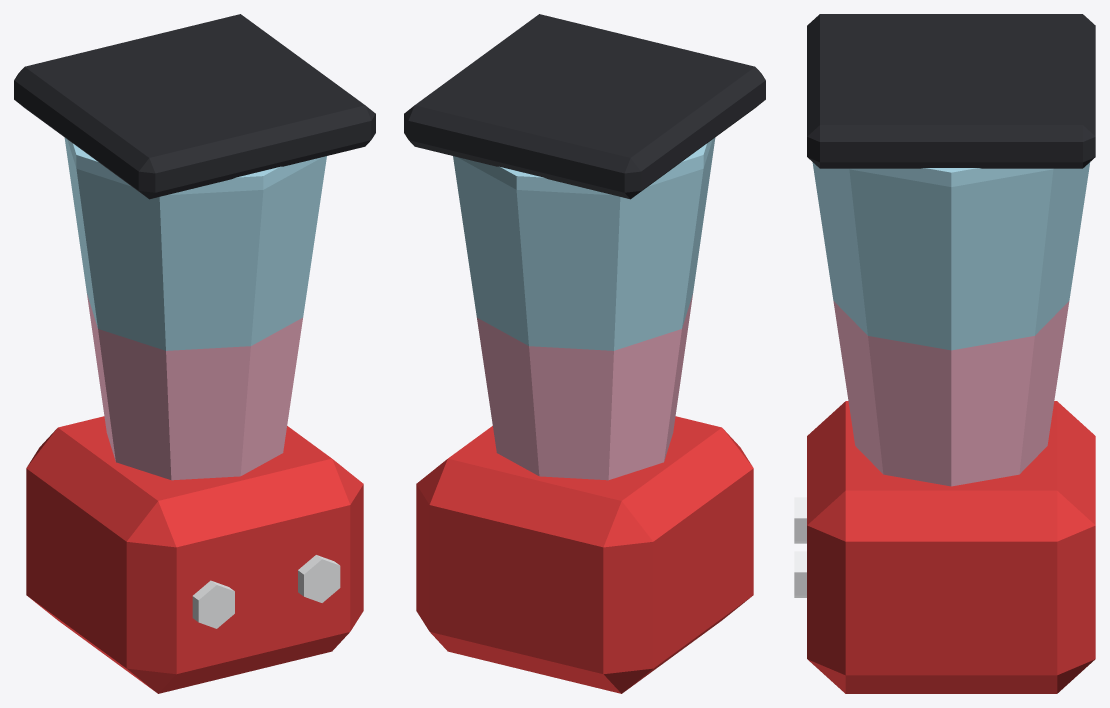
The model's file is Blender.fbx.
The picture shows the model from 3 angles, left to right: view 1: azimuth 30°, elevation 25°; view 2: azimuth 150°, elevation 25°; view 3: azimuth 270°, elevation 25°; orthographic projection. The views are drawn at different scales.
Parts seen in each view (by area): view 1: Blender; view 2: Blender; view 3: Blender.
Boxes of the visible parts, bbox=[...] form: Blender: bbox=[14, 14, 375, 693]; Blender: bbox=[404, 14, 765, 693]; Blender: bbox=[794, 14, 1095, 693].
Bounding box in the file's own units: 0.9 × 2 × 0.94.
1 material, 1 textured.
